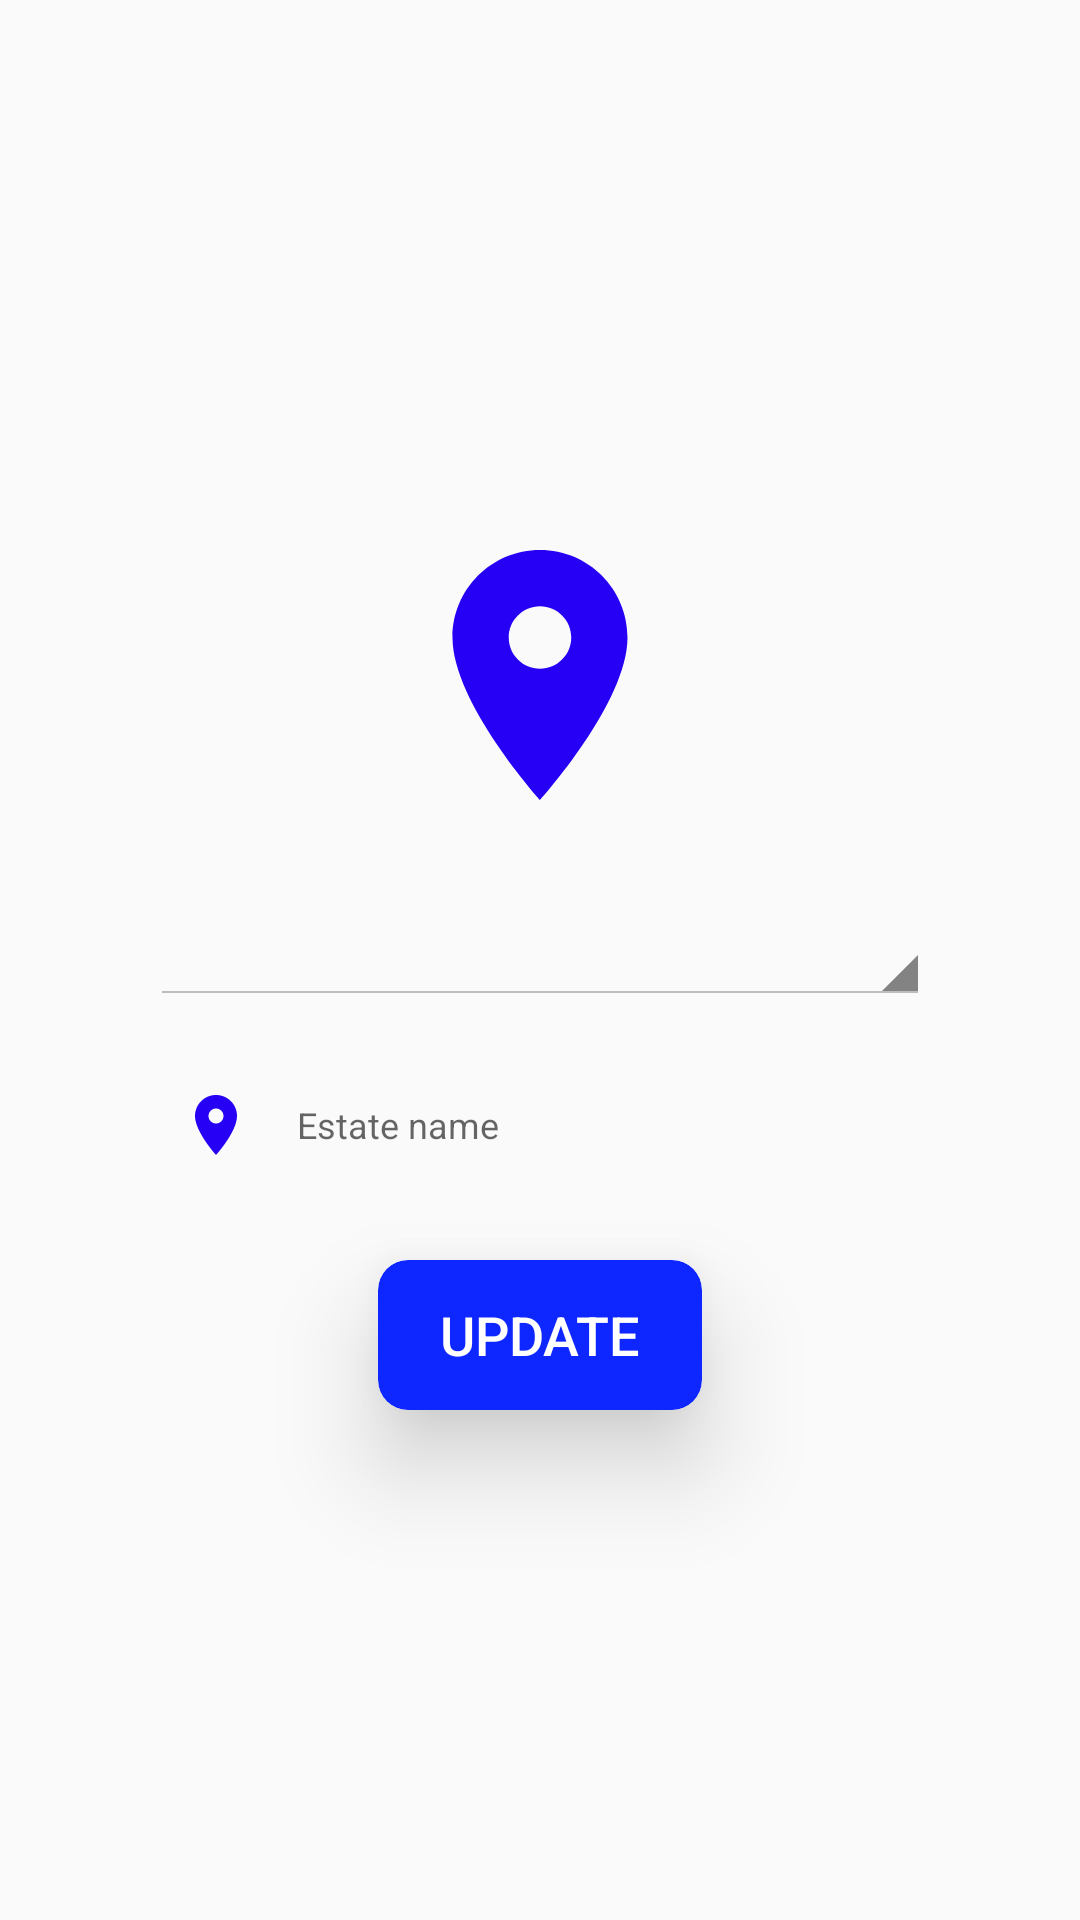

Icons on this 1080×1920 Android screen, each with the point to tap as (x=x, y=y):
location on: (x=540, y=675)
